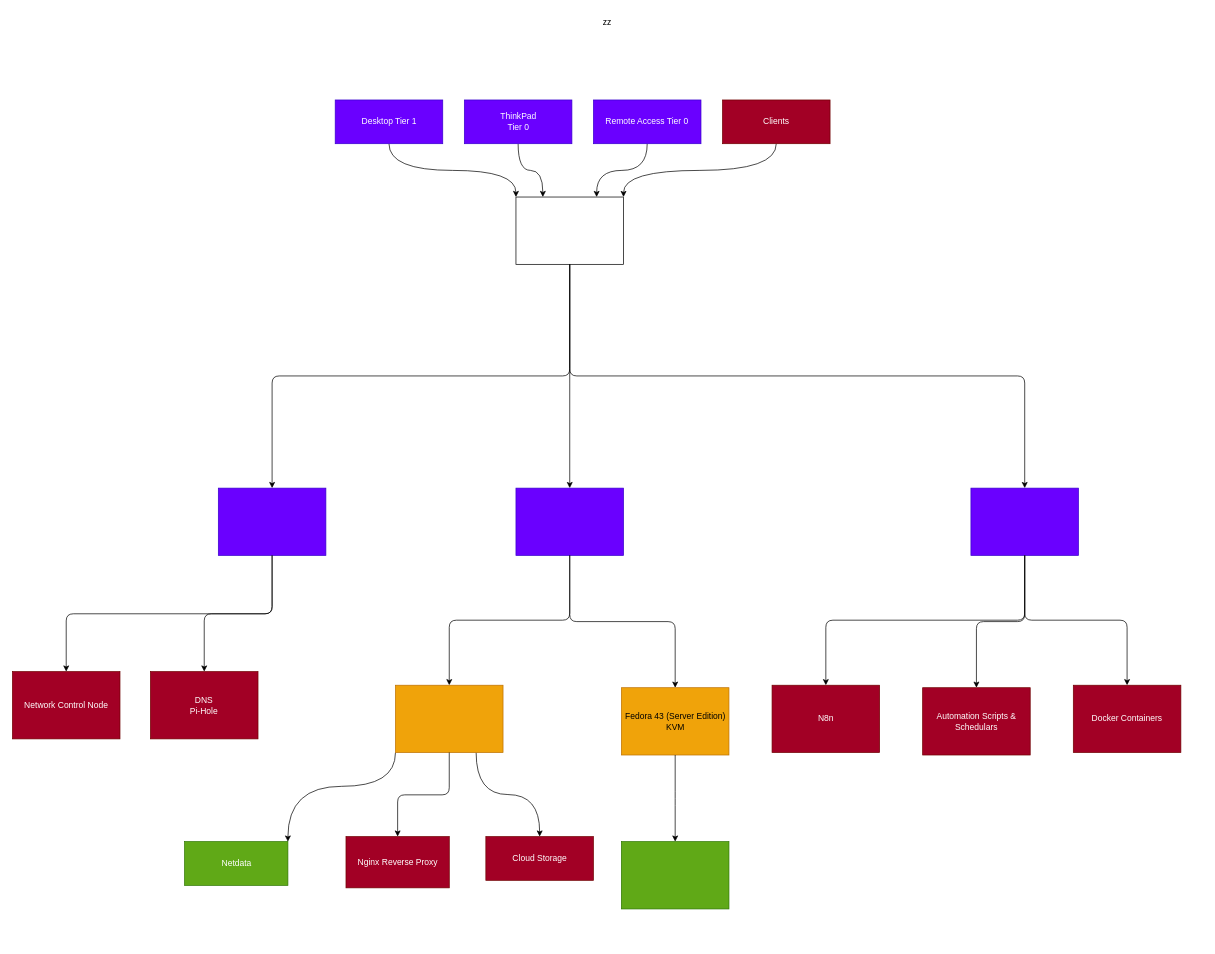
The diagram is 1215 pixels wide and 954 high, and some of its shapes have lost their labels. The centre of each missing label's shape, as x and y in pixels:
Dell Server: point (569, 521)
Gitea: point (675, 875)
Pi Zero 2 W: point (272, 521)
Raspberry Pi 4 Model B: point (1024, 521)
Tailscale Network: point (569, 230)
Ubuntu: point (449, 719)
